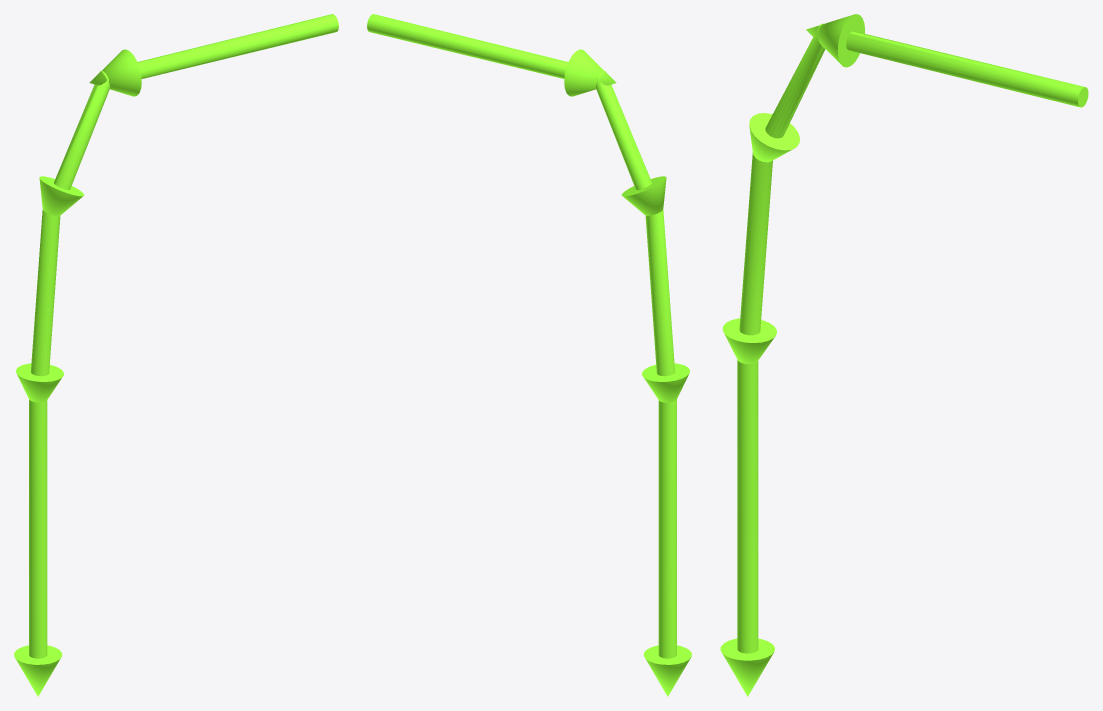
File: vacuum_relief_valve_flow.glb
3 renders of one model, left to right at view 1: azimuth 30°, elevation 25°; view 2: azimuth 150°, elevation 25°; view 3: azimuth 330°, elevation 25°, orthographic. The views are drawn at different scales.
Parts seen in each view (by area): view 1: air; view 2: air; view 3: air.
Boxes of the visible parts, bbox=[...] form: air: bbox=[14, 14, 338, 696]; air: bbox=[367, 14, 691, 696]; air: bbox=[720, 14, 1088, 696].
Size of the model in its own units: 0.2356 by 0.4426 by 0.0312.
